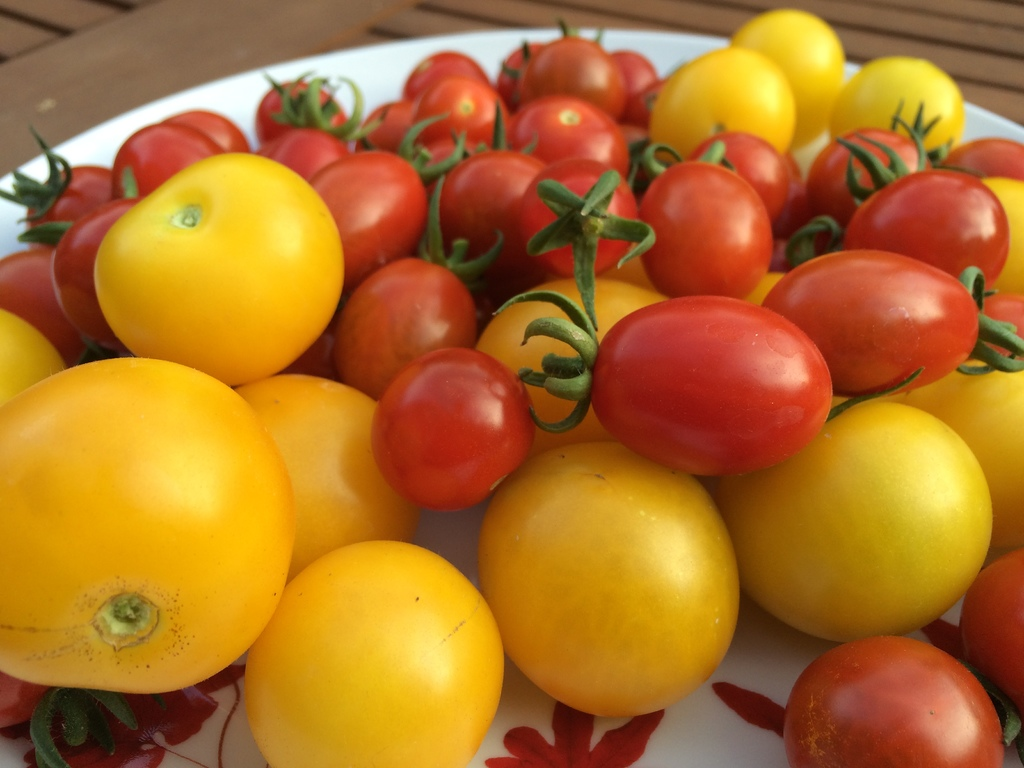Tomato: (0, 6, 1020, 764), (597, 277, 829, 487)
